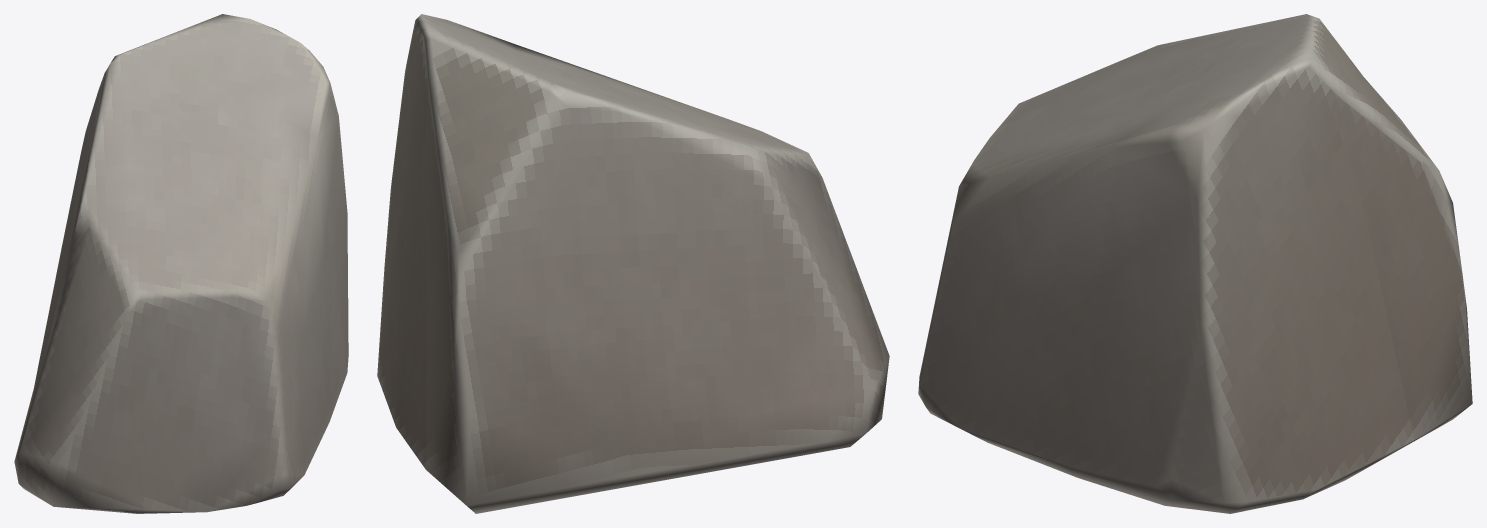
File: pedra_02.glb
3 views of the same model, side by side, from view 1: azimuth 30°, elevation 25°; view 2: azimuth 150°, elevation 25°; view 3: azimuth 270°, elevation 25° (orthographic). The views are drawn at different scales.
Visible parts, largest first — view 1: SM_Rocks_02; view 2: SM_Rocks_02; view 3: SM_Rocks_02.
Boxes of the visible parts, x1,y1,x2,y2 form: SM_Rocks_02: (14,14,348,513); SM_Rocks_02: (377,14,889,513); SM_Rocks_02: (918,14,1472,513).
Bounding box in the file's own units: 0.6174 × 0.5586 × 0.6602.
1 material, 1 textured.
